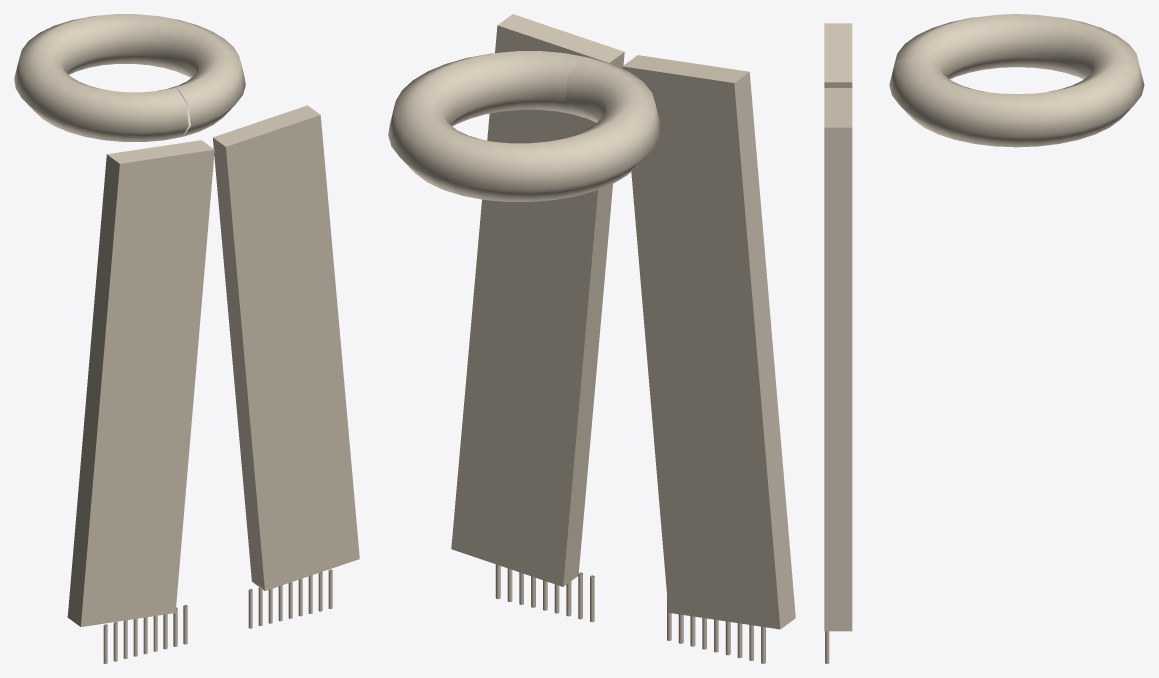
The model's file is echarpe-nuage-femme.glb.
3 views of the same model, side by side, from view 1: azimuth 30°, elevation 25°; view 2: azimuth 150°, elevation 25°; view 3: azimuth 270°, elevation 25° (orthographic). The views are drawn at different scales.
Parts seen in each view (by area): view 1: edit-23; view 2: edit-23; view 3: edit-23.
Boxes of the visible parts, bbox=[...] form: edit-23: bbox=[14, 14, 359, 663]; edit-23: bbox=[388, 14, 795, 663]; edit-23: bbox=[824, 14, 1144, 663].
Bounding box in the file's own units: 0.3077 × 0.545 × 0.2869.
